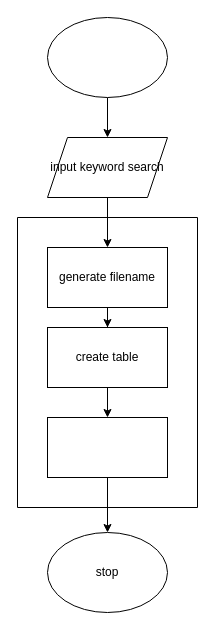
Image size: 215x630. Some labels were removed from this diagram. Here are the shapes that lost their labels. From the top down, the centre of each, then its label:
At (107,57): "start".
At (107,447): "load data".
